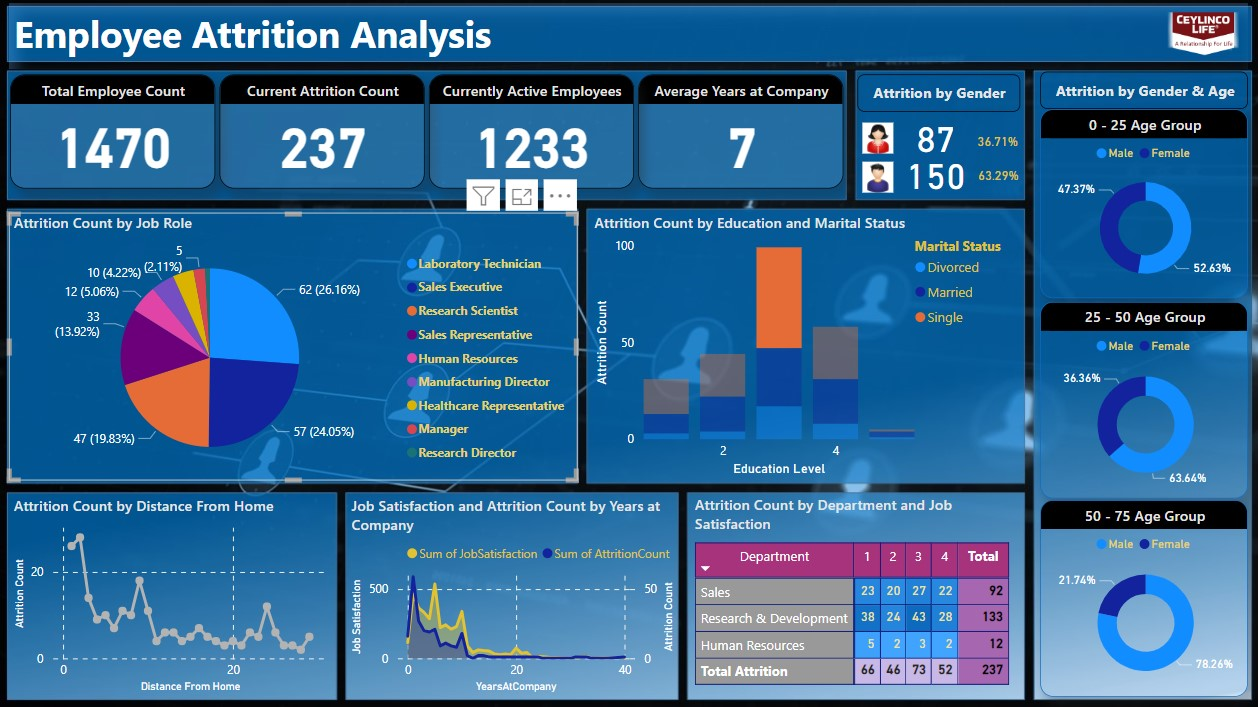

What the dashboard file says about the page in this screenshot:
{"tool":"powerbi","page":{"name":"Page 1","canvas":[1280,720],"ordinal":0},"visuals":[{"type":"textbox","box":[9.9,4.3,1258.5,66.7],"z":0},{"type":"card","title":"Total Employee Count","fields":{"Values":["Sum(Employee Attrition.EmployeeCount)"]},"box":[11.4,76.6,208.6,116.3],"z":1000},{"type":"card","title":"Average Years at Company","fields":{"Values":["Employee Attrition.AverageYears"]},"box":[649.8,76.6,208.6,116.3],"z":2000},{"type":"card","title":"Current Attrition Count","fields":{"Values":["Sum(Employee Attrition.AttritionCount)"]},"box":[224.2,76.6,208.6,116.3],"z":3000},{"type":"card","title":"Currently Active Employees","fields":{"Values":["Employee Attrition.ActiveEmployees"]},"box":[437,76.6,208.6,116.3],"z":4000},{"type":"card","fields":{"Values":["Employee Attrition.FemaleAttritionCount"]},"box":[918,113.5,68.1,52.5],"z":5000},{"type":"card","fields":{"Values":["Employee Attrition.MaleAttritionCount"]},"box":[912.3,153.2,79.5,48.2],"z":6000},{"type":"card","fields":{"Values":["Employee Attrition.PerMaleAttrition"]},"box":[988.9,161.7,53.9,36.9],"z":7000},{"type":"card","fields":{"Values":["Employee Attrition.PerFemaleAttrition"]},"box":[980.6,129,69.4,33.1],"z":8000},{"type":"textbox","box":[873.1,76.1,165.4,38],"z":9000},{"type":"pieChart","title":"Attrition Count by Job Role","fields":{"Category":["Employee Attrition.JobRole"],"Y":["Sum(Employee Attrition.AttritionCount)"]},"box":[9.9,216.6,578.7,272.8],"z":10000},{"type":"columnChart","title":"Attrition Count by Education and Marital Status","fields":{"Category":["Employee Attrition.Education"],"Y":["Sum(Employee Attrition.AttritionCount)"],"Series":["Employee Attrition.MaritalStatus"]},"box":[600.2,217.1,438.4,272.4],"z":11000},{"type":"lineChart","title":"Attrition Count by Distance From Home","fields":{"Category":["Employee Attrition.DistanceFromHome"],"Y":["Sum(Employee Attrition.AttritionCount)"]},"box":[9.9,505.1,329.2,204.3],"z":12000},{"type":"areaChart","title":"Job Satisfaction and Attrition Count by Years at Company","fields":{"Y":["Sum(Employee Attrition.JobSatisfaction)"],"Y2":["Sum(Employee Attrition.AttritionCount)"],"Category":["Employee Attrition.YearsAtCompany"]},"box":[353.3,505.1,337.7,204.3],"z":13000},{"type":"pivotTable","title":"Attrition Count by Department and Job Satisfaction","fields":{"Rows":["Employee Attrition.Department"],"Columns":["Employee Attrition.JobSatisfaction"],"Values":["Sum(Employee Attrition.AttritionCount)"]},"box":[702.8,504.3,335.7,205],"z":14000},{"type":"image","box":[1177.6,8.5,90.8,56.8],"z":15000},{"type":"donutChart","title":"0 - 25 Age Group","fields":{"Category":["Employee Attrition.Gender"],"Series":["Employee Attrition.AgeBand"],"Y":["Sum(Employee Attrition.AttritionCount)"]},"box":[1058.3,112.4,210,191.8],"z":16000},{"type":"donutChart","title":"25 - 50 Age Group","fields":{"Category":["Employee Attrition.Gender"],"Series":["Employee Attrition.AgeBand"],"Y":["Sum(Employee Attrition.AttritionCount)"]},"box":[1058.5,306.5,210,200.1],"z":17000},{"type":"donutChart","title":"50 - 75 Age Group","fields":{"Category":["Employee Attrition.Gender"],"Series":["Employee Attrition.AgeBand"],"Y":["Sum(Employee Attrition.AttritionCount)"]},"box":[1058.3,509.3,210,200.1],"z":18000},{"type":"textbox","box":[1058.3,74.4,210,38],"z":19000},{"type":"image","box":[873.1,120.7,41.3,41.3],"z":20000},{"type":"image","box":[873.1,160.4,41.3,41.3],"z":21000}]}

Visuals, with their boxes in screenshot pixels (x1, y1, x2, y2), scaled from the page's 1280x720 canvas onto the 1258x707 screenshot:
textbox: [x1=10, y1=4, x2=1247, y2=70]
"Total Employee Count" card: [x1=11, y1=75, x2=216, y2=189]
"Average Years at Company" card: [x1=639, y1=75, x2=844, y2=189]
"Current Attrition Count" card: [x1=220, y1=75, x2=425, y2=189]
"Currently Active Employees" card: [x1=429, y1=75, x2=635, y2=189]
card - Employee Attrition.FemaleAttritionCount: [x1=902, y1=111, x2=969, y2=163]
card - Employee Attrition.MaleAttritionCount: [x1=897, y1=150, x2=975, y2=198]
card - Employee Attrition.PerMaleAttrition: [x1=972, y1=159, x2=1025, y2=195]
card - Employee Attrition.PerFemaleAttrition: [x1=964, y1=127, x2=1032, y2=159]
textbox: [x1=858, y1=75, x2=1021, y2=112]
"Attrition Count by Job Role" pieChart: [x1=10, y1=213, x2=578, y2=481]
"Attrition Count by Education and Marital Status" columnChart: [x1=590, y1=213, x2=1021, y2=481]
"Attrition Count by Distance From Home" lineChart: [x1=10, y1=496, x2=333, y2=697]
"Job Satisfaction and Attrition Count by Years at Company" areaChart: [x1=347, y1=496, x2=679, y2=697]
"Attrition Count by Department and Job Satisfaction" pivotTable: [x1=691, y1=495, x2=1021, y2=696]
image: [x1=1157, y1=8, x2=1247, y2=64]
"0 - 25 Age Group" donutChart: [x1=1040, y1=110, x2=1247, y2=299]
"25 - 50 Age Group" donutChart: [x1=1040, y1=301, x2=1247, y2=497]
"50 - 75 Age Group" donutChart: [x1=1040, y1=500, x2=1247, y2=697]
textbox: [x1=1040, y1=73, x2=1247, y2=110]
image: [x1=858, y1=119, x2=899, y2=159]
image: [x1=858, y1=158, x2=899, y2=198]
